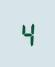four: (19, 19, 33, 47)
